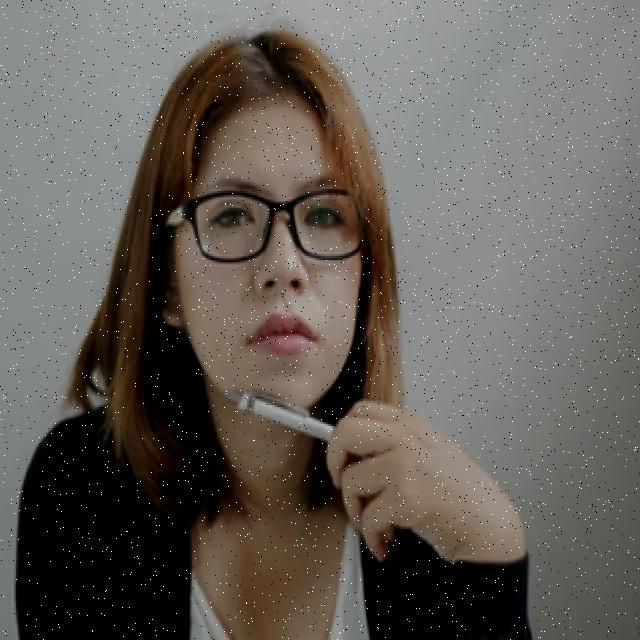face_no_mask: (166, 89, 366, 417)
